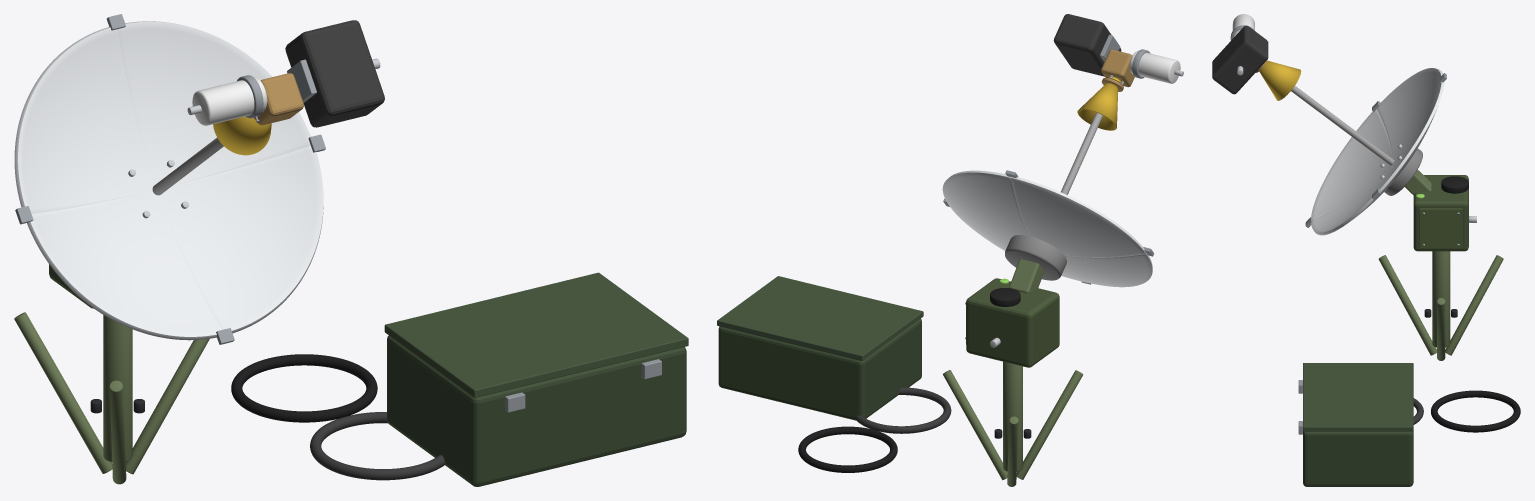
Rendered from vsat.glb.
3 views of the same model, side by side, from view 1: azimuth 30°, elevation 25°; view 2: azimuth 150°, elevation 25°; view 3: azimuth 270°, elevation 25° (orthographic). The views are drawn at different scales.
Parts seen in each view (by area): view 1: modem, modemlid, petal2, petal0, petal3, petal1, buc, ifltx, mast, iflrx, leg2, lnb (+5 smaller); view 2: modem, modemlid, pos, petal0, petal1, buc, petal3, ifltx, mast, hub, iflrx, feed (+8 smaller); view 3: modemlid, modem, petal3, petal0, buc, pos, poscover, petal2, ifltx, mast, petal1, feed (+7 smaller).
Part boxes in pixels (<box>): modem: <box>387,335,686,486</box>; modemlid: <box>384,272,688,397</box>; petal2: <box>159,145,323,333</box>; petal0: <box>14,27,155,213</box>; petal3: <box>27,191,221,340</box>; petal1: <box>118,21,310,186</box>; buc: <box>285,20,384,127</box>; ifltx: <box>231,354,377,422</box>; mast: <box>103,315,132,462</box>; iflrx: <box>310,412,444,480</box>; leg2: <box>14,312,112,473</box>; lnb: <box>192,77,267,125</box>; modem: <box>718,318,921,420</box>; modemlid: <box>717,276,923,360</box>; pos: <box>966,278,1059,367</box>; petal0: <box>1011,177,1145,257</box>; petal1: <box>942,170,1029,241</box>; buc: <box>1053,14,1121,76</box>; petal3: <box>1062,253,1152,287</box>; ifltx: <box>798,426,897,472</box>; mast: <box>1003,361,1022,471</box>; hub: <box>1005,235,1066,280</box>; iflrx: <box>855,387,951,433</box>; feed: <box>1077,76,1120,130</box>; modemlid: <box>1303,363,1413,431</box>; modem: <box>1303,431,1413,486</box>; petal3: <box>1311,109,1392,219</box>; petal0: <box>1377,68,1442,160</box>; buc: <box>1212,25,1268,94</box>; pos: <box>1413,175,1468,251</box>; poscover: <box>1419,208,1462,247</box>; petal2: <box>1311,164,1392,235</box>; ifltx: <box>1431,390,1520,432</box>; mast: <box>1432,251,1450,347</box>; petal1: <box>1379,82,1444,193</box>; feed: <box>1259,60,1301,100</box>.
Size of the model in its own units: 6.26 by 5.42 by 4.46.
